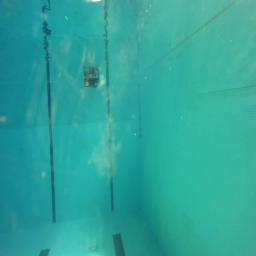Side: (84, 77, 100, 87)
